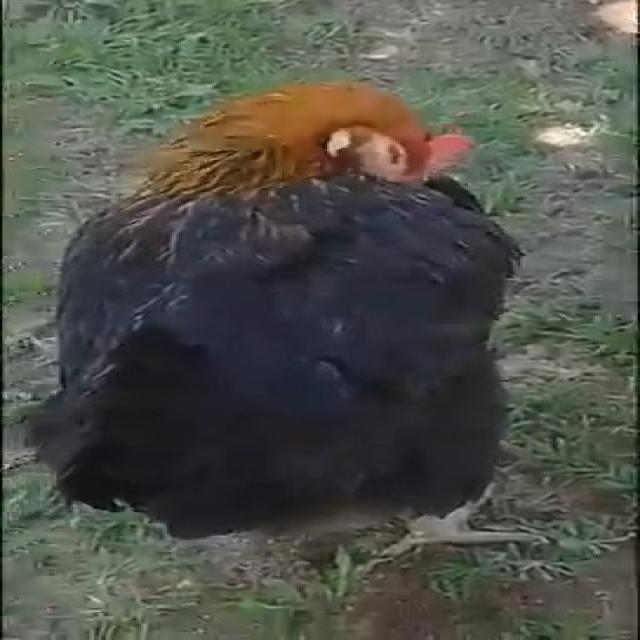self preening: (27, 86, 534, 554)
